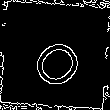O_NE: (21, 22, 89, 88)
